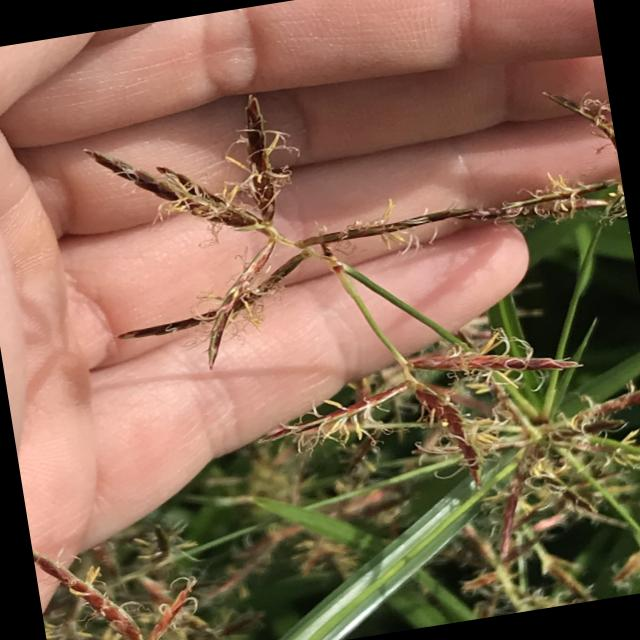cyperus: (72, 32, 640, 629), (77, 43, 640, 501), (414, 340, 640, 587), (28, 494, 226, 640)
